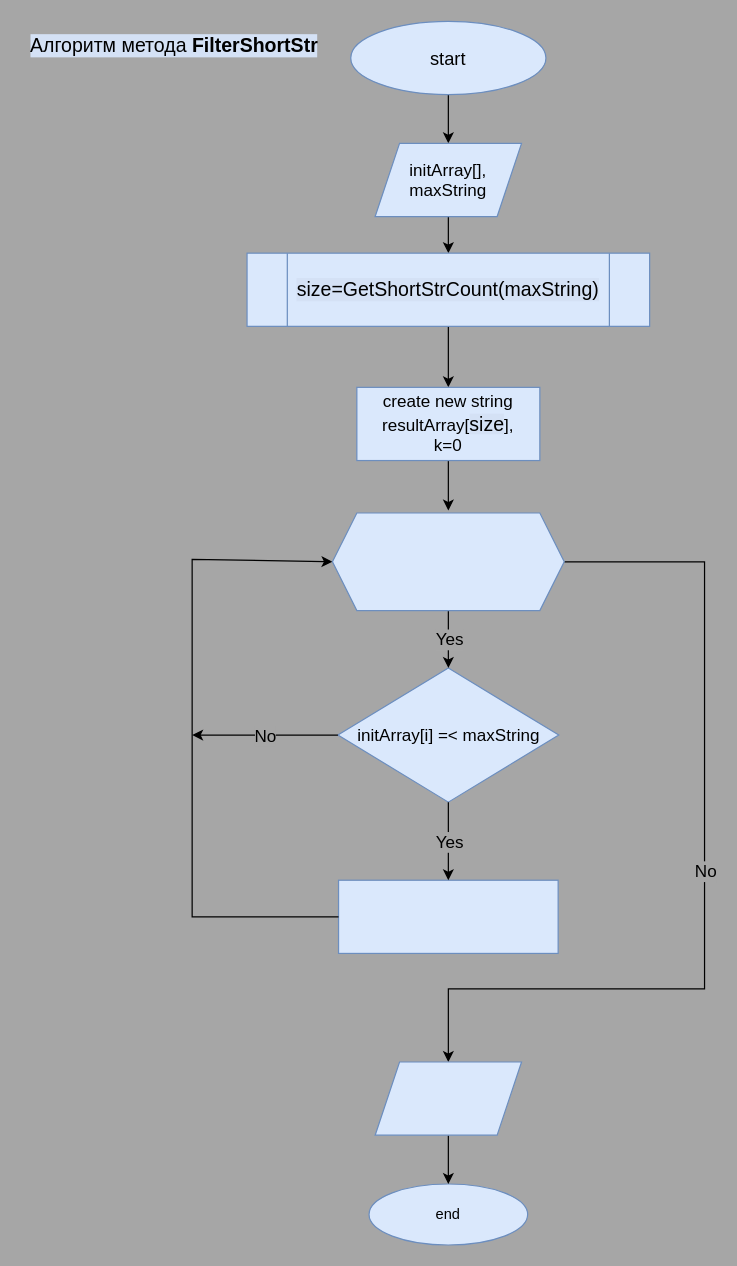
This 737x1266 diagram has some shape labels left out. Here are the shapes that lost their labels. From the top down, the centre of each, then its label:
the point at 447,561: i=0 i<initArray.length i++
the point at 447,916: resultArray[k]=initArray[i] k++
the point at 448,1098: resultArray[]
